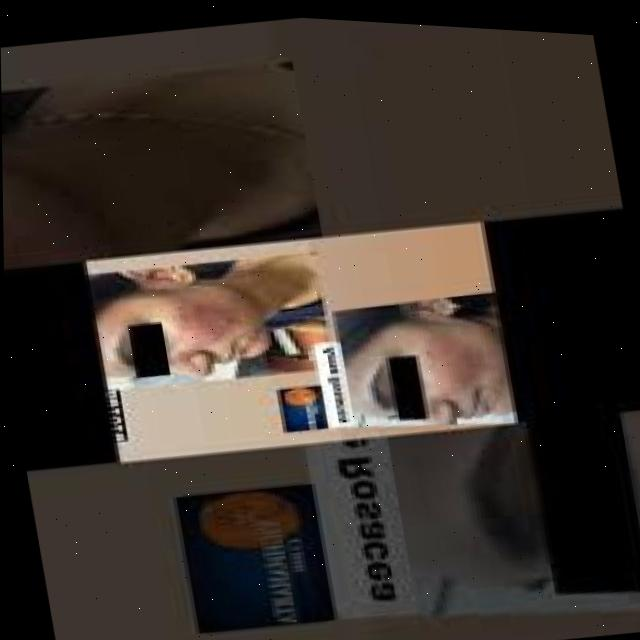Rosacea: (179, 287, 246, 339)
